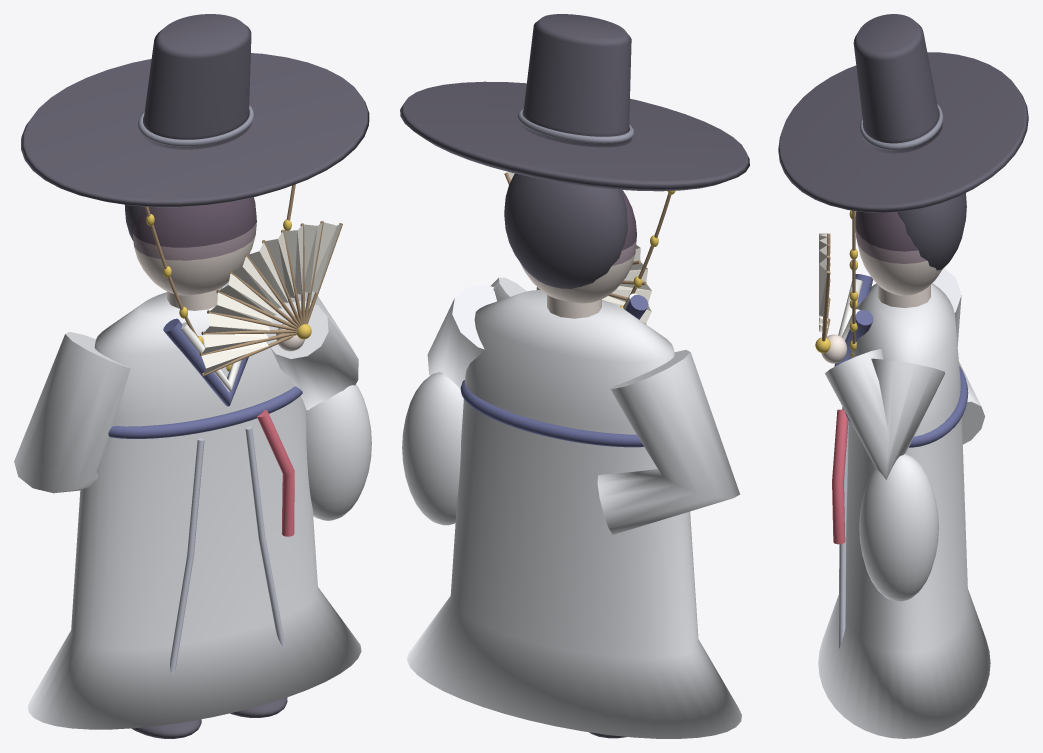
The model's file is conch_jeonwoochi_a_behind_3_2.glb.
The picture shows the model from 3 angles, left to right: view 1: azimuth 30°, elevation 25°; view 2: azimuth 150°, elevation 25°; view 3: azimuth 270°, elevation 25°; orthographic projection. The views are drawn at different scales.
Size of the model in its own units: 28.25 by 55.23 by 18.85.
